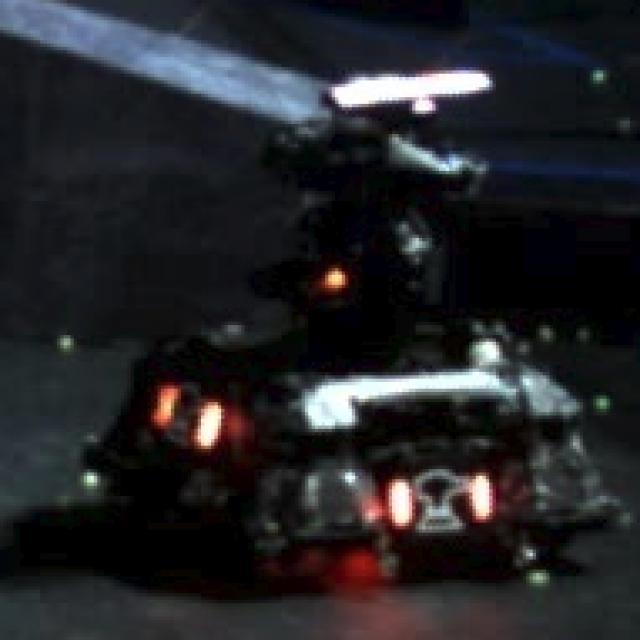Rs: (392, 466, 499, 536), (151, 382, 221, 459)
